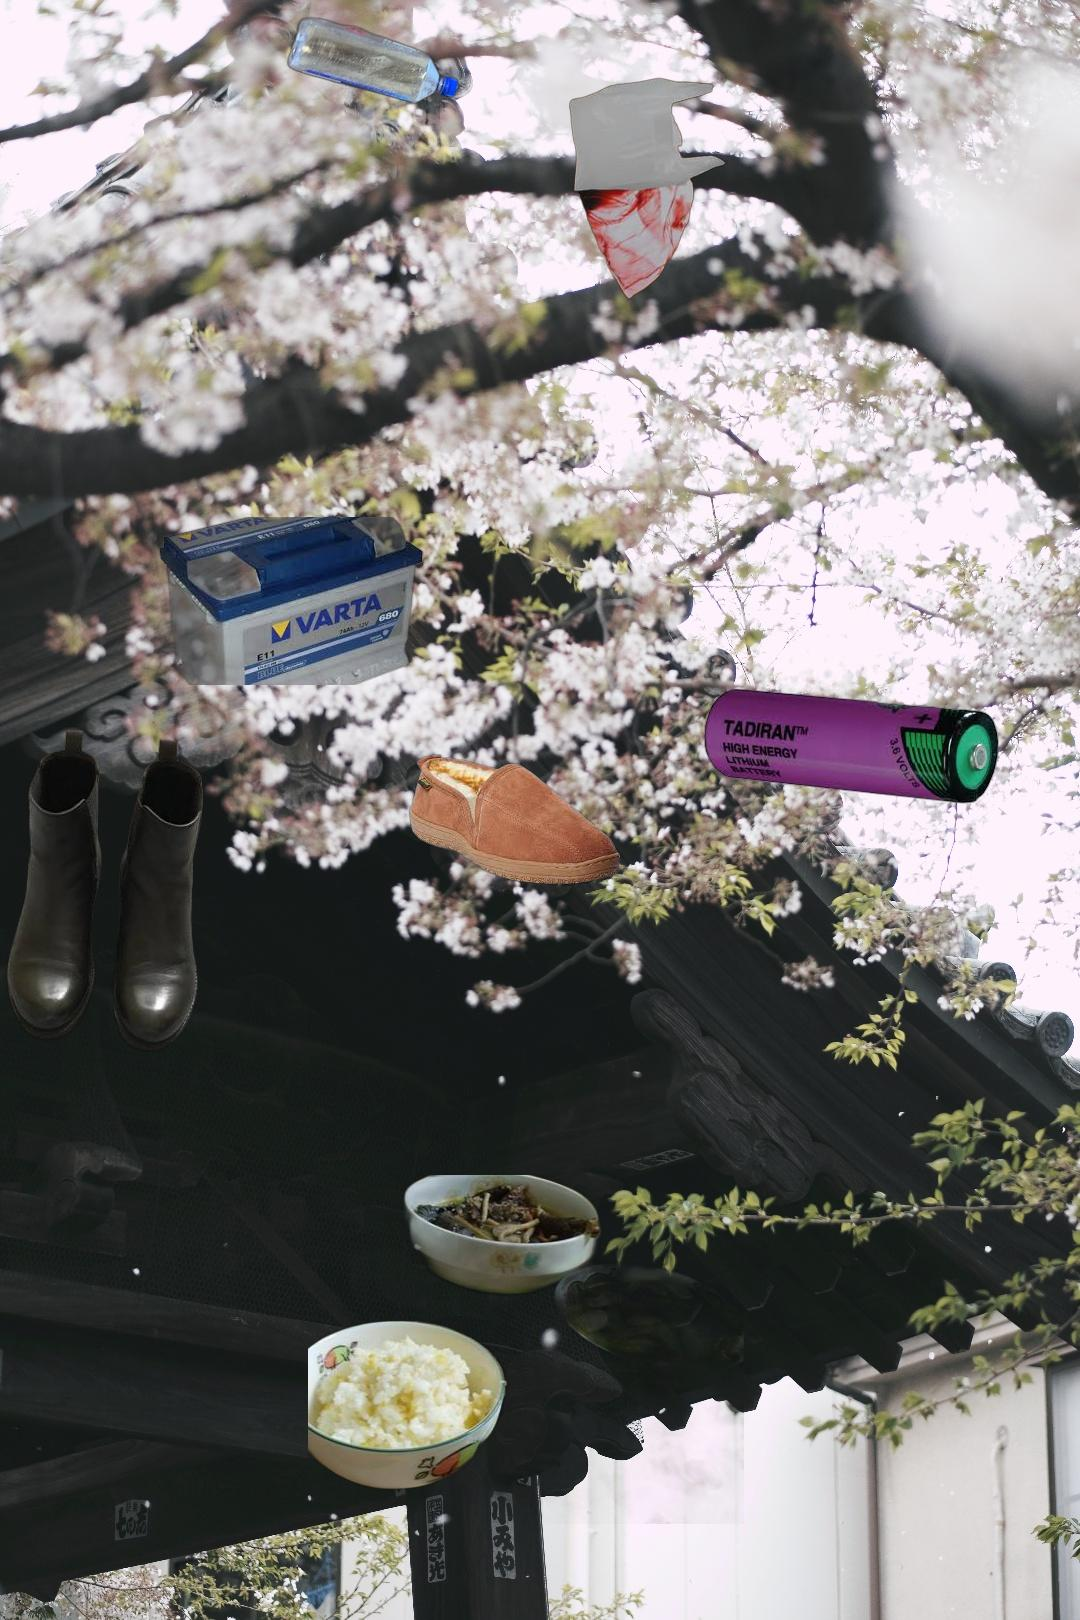battery: (136, 517, 436, 685), (702, 686, 1000, 806)
biological: (309, 1175, 744, 1524)
plastic-bag: (567, 75, 729, 301)
plastic-bottles: (284, 14, 464, 107)
shoes: (4, 724, 207, 1057), (406, 752, 623, 887)
